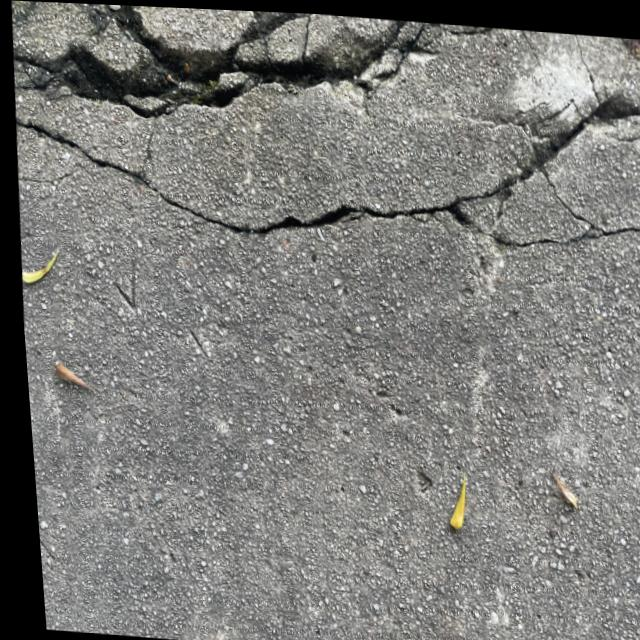Crack: (5, 42, 640, 266), (7, 0, 507, 140)
